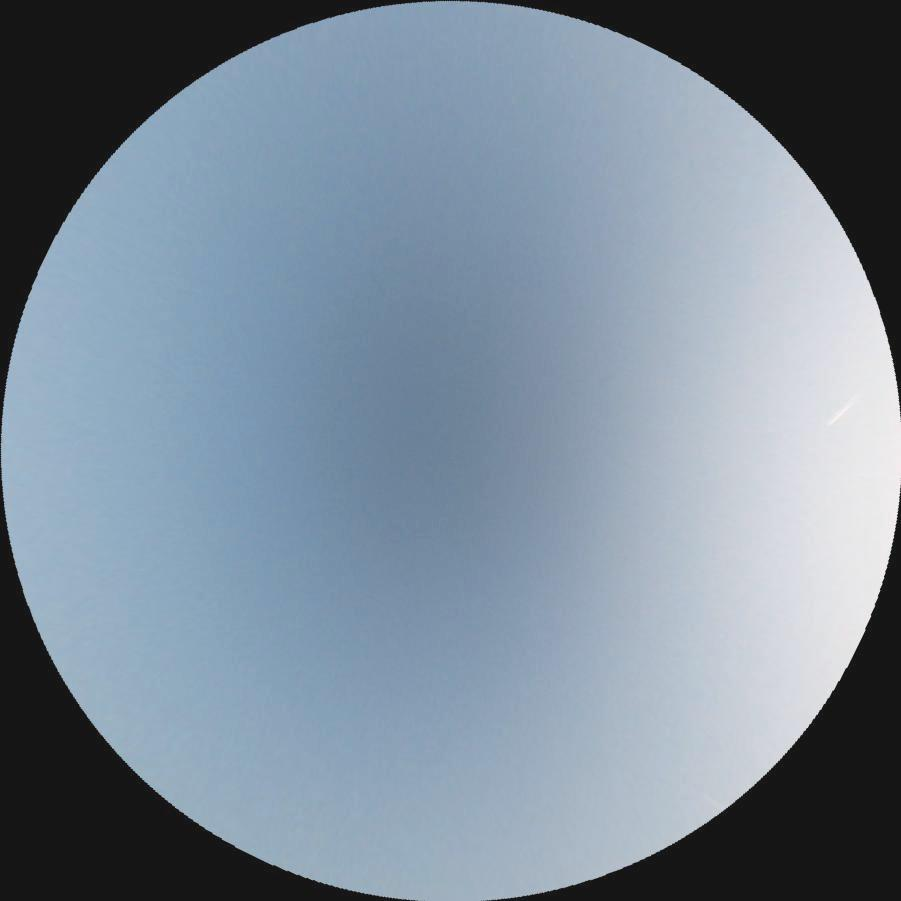contrail young: (824, 389, 864, 426)
